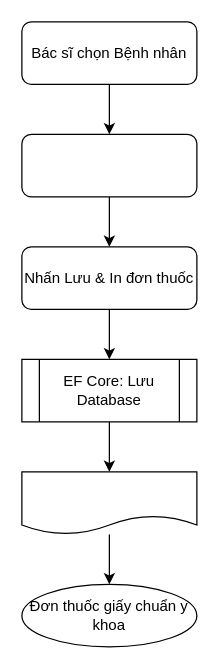
Some shapes in this 219 by 669 pixel diagram are drawn without their labels. Here are the shapes that lost their labels. From the top down, the box of each, then its label:
(21, 133, 197, 197): Nhập Form Khám & Kê đơn thuốc
(21, 471, 197, 534): CSS @media print (Ẩn form nhập liệu)
